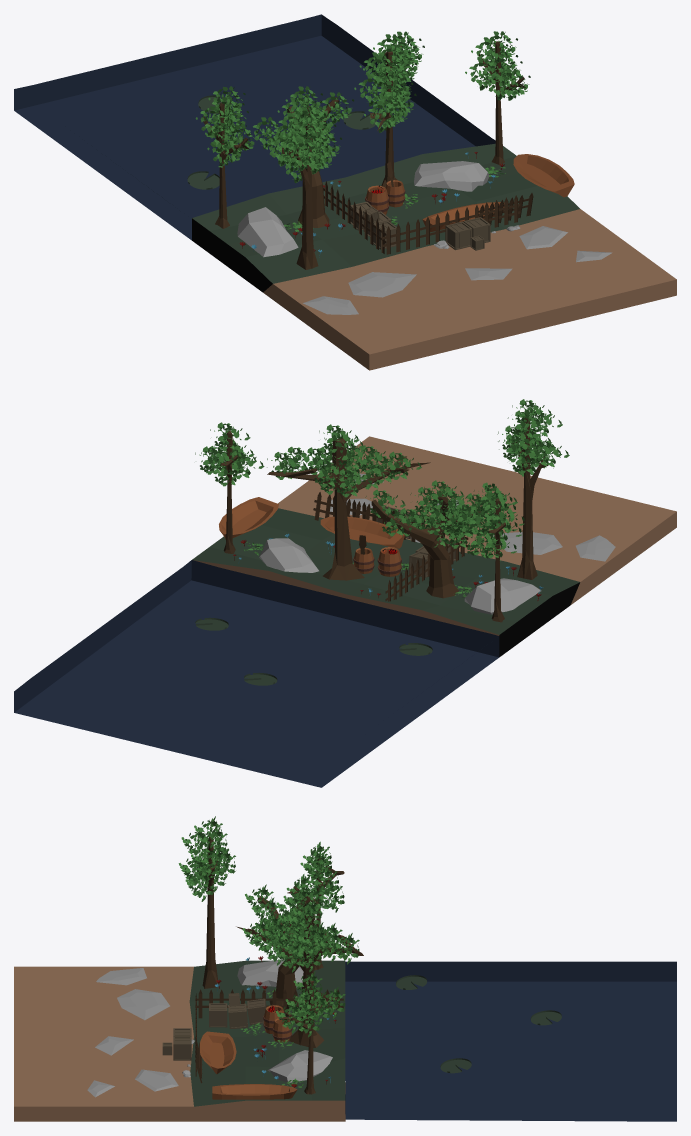
File: FLORESTA PERTO DO RIO 100_ OFICIAL.fbx
3 renders of one model, top to bottom at view 1: azimuth 30°, elevation 25°; view 2: azimuth 150°, elevation 25°; view 3: azimuth 270°, elevation 25°, orthographic. The views are drawn at different scales.
Parts seen in each view (by area): view 1: Base.001, rio.001, caminho, pedra, pedra.009, barco.002, tronco 4.001, cerca.001, cerca, tronco.001, tronco 3.001, tronco 3.002 (+4 smaller); view 2: rio.001, Base.001, tronco 3.003, tronco.001, caminho, pedra, tronco 4.001, pedra.009, barco.002, barco.001, cerca, tronco 3.002 (+2 smaller); view 3: rio.001, Base.001, caminho, barco.002, tronco 3.003, pedra.009, barco.001, tronco 4.001, pedra, tronco.001, tronco 3.002, cerca (+2 smaller).
Part boxes in pixels (<box>): Base.001: <box>192,143,676,370</box>; rio.001: <box>14,14,495,240</box>; caminho: <box>303,226,612,314</box>; pedra: <box>237,207,298,257</box>; pedra.009: <box>414,161,488,191</box>; barco.002: <box>513,154,574,197</box>; tronco 4.001: <box>290,105,323,269</box>; cerca.001: <box>386,195,517,254</box>; cerca: <box>325,181,384,253</box>; tronco.001: <box>282,97,339,227</box>; tronco 3.001: <box>202,102,249,228</box>; tronco 3.002: <box>478,41,525,164</box>; rio.001: <box>14,560,499,787</box>; Base.001: <box>192,436,676,657</box>; tronco 3.003: <box>267,438,430,580</box>; tronco.001: <box>371,494,487,598</box>; caminho: <box>330,473,615,561</box>; pedra: <box>464,578,541,614</box>; tronco 4.001: <box>512,418,548,579</box>; pedra.009: <box>259,538,318,572</box>; barco.002: <box>219,497,278,539</box>; barco.001: <box>320,516,404,548</box>; cerca: <box>388,532,464,601</box>; tronco 3.002: <box>220,431,240,553</box>; rio.001: <box>345,961,676,1121</box>; Base.001: <box>14,960,345,1121</box>; caminho: <box>87,968,178,1097</box>; barco.002: <box>212,1084,297,1099</box>; tronco 3.003: <box>236,911,363,1047</box>; pedra.009: <box>267,1050,332,1082</box>; barco.001: <box>200,1031,236,1073</box>; tronco 4.001: <box>202,836,218,988</box>; pedra: <box>237,959,303,987</box>; tronco.001: <box>257,896,329,1008</box>; tronco 3.002: <box>279,980,336,1094</box>; cerca: <box>198,989,339,1018</box>.
Size of the model in its own units: 1062 by 609 by 2002.
Materials: 49 (49 with a texture image).
